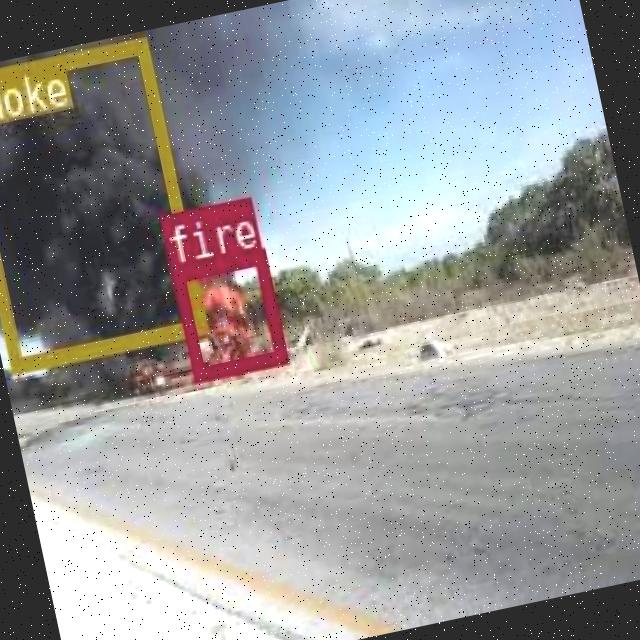fire: (169, 248, 284, 379)
smoke: (0, 33, 205, 370)
